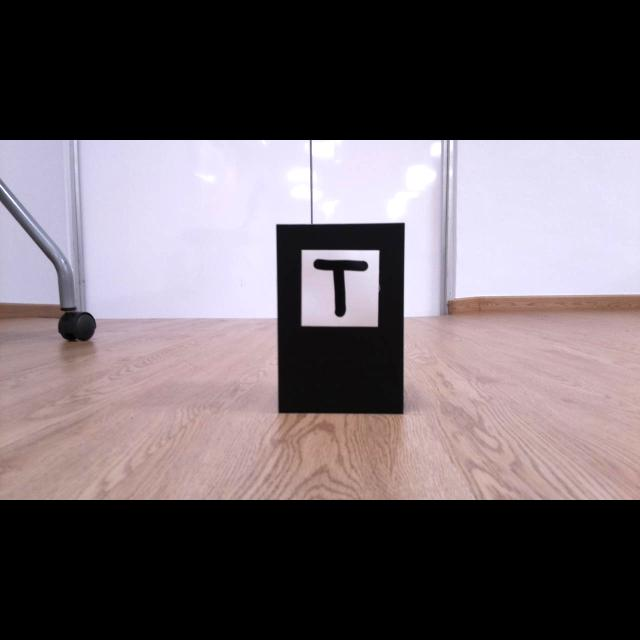T: (313, 258, 368, 318)
